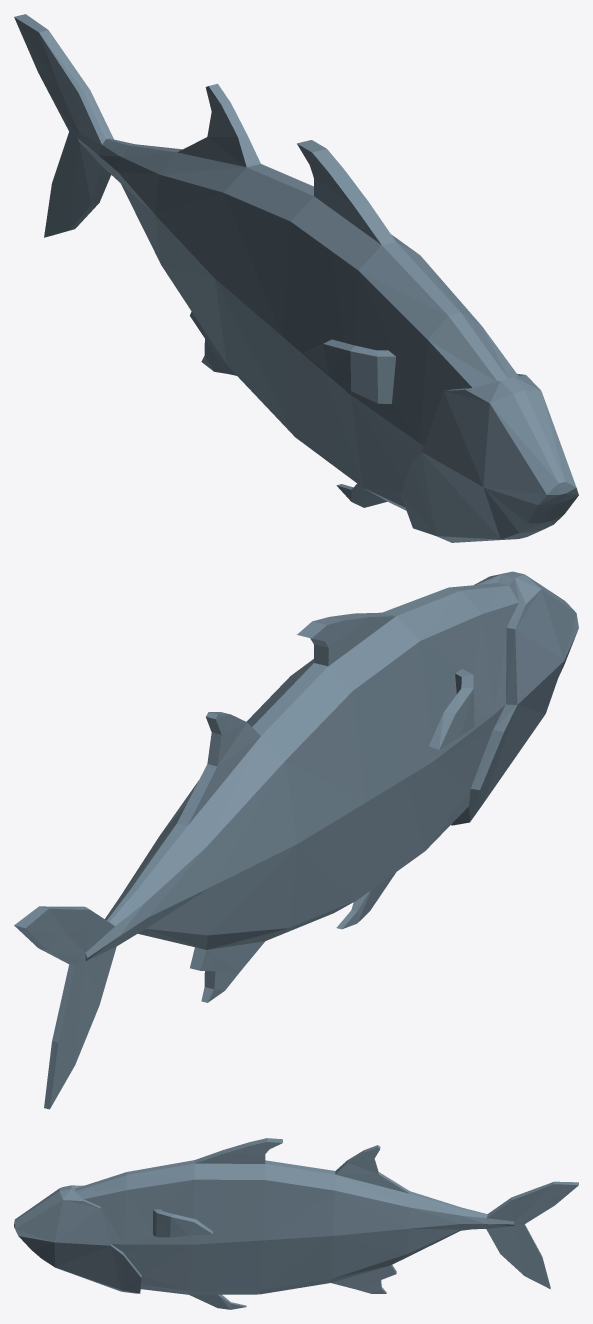
The model's file is fish1.glb.
3 renders of one model, top to bottom at view 1: azimuth 30°, elevation 25°; view 2: azimuth 150°, elevation 25°; view 3: azimuth 270°, elevation 25°, orthographic. The views are drawn at different scales.
Parts seen in each view (by area): view 1: Fish1.obj; view 2: Fish1.obj; view 3: Fish1.obj.
Boxes of the visible parts, bbox=[...] form: Fish1.obj: bbox=[14, 14, 578, 542]; Fish1.obj: bbox=[14, 571, 578, 1109]; Fish1.obj: bbox=[14, 1138, 578, 1309].
Size of the model in its own units: 0.2878 by 0.6606 by 2.
